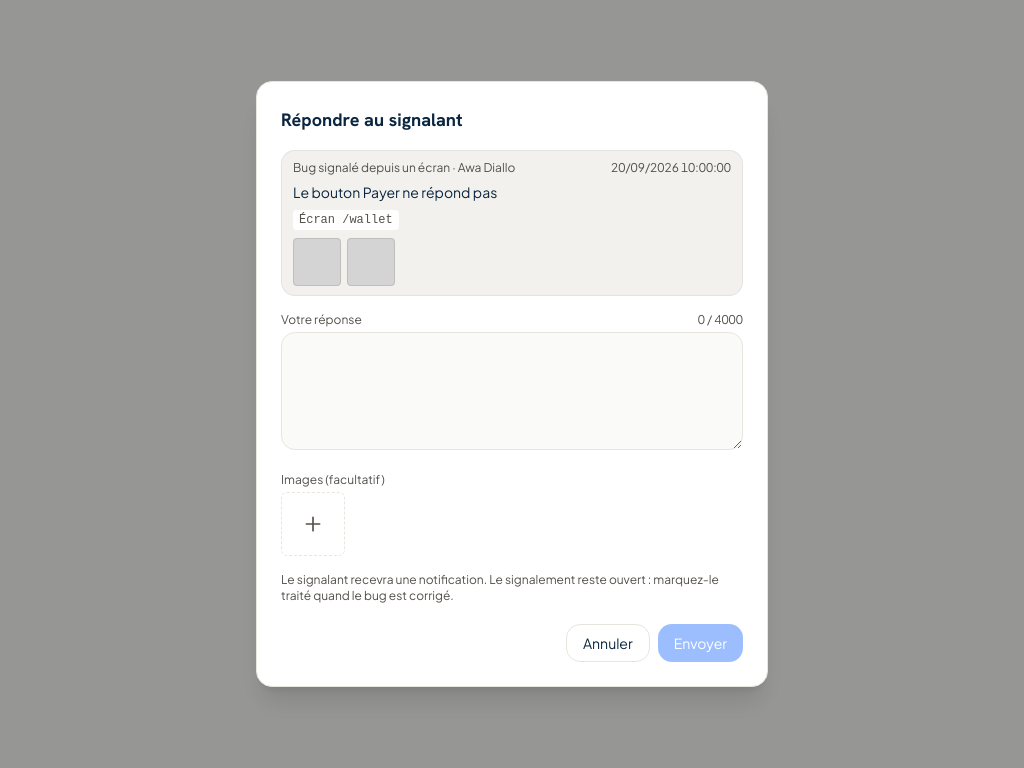
Test: ReportReplyDialog › ancien back : message d’indisponibilité et Envoyer désactivé
This screenshot has width=1024, height=768.
Type "Merci" into the text box with test id "reply-message" at (512, 391), box [281,332,743,450]
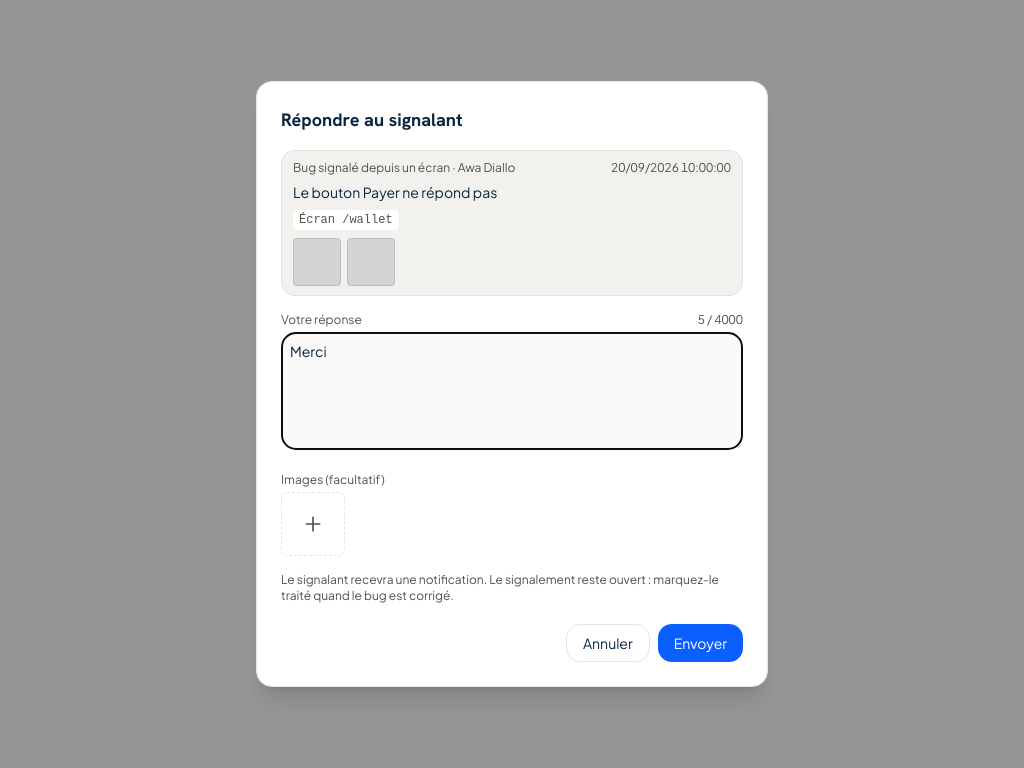
Click the button with test id "reply-submit" at (700, 643), box [658,624,743,662]
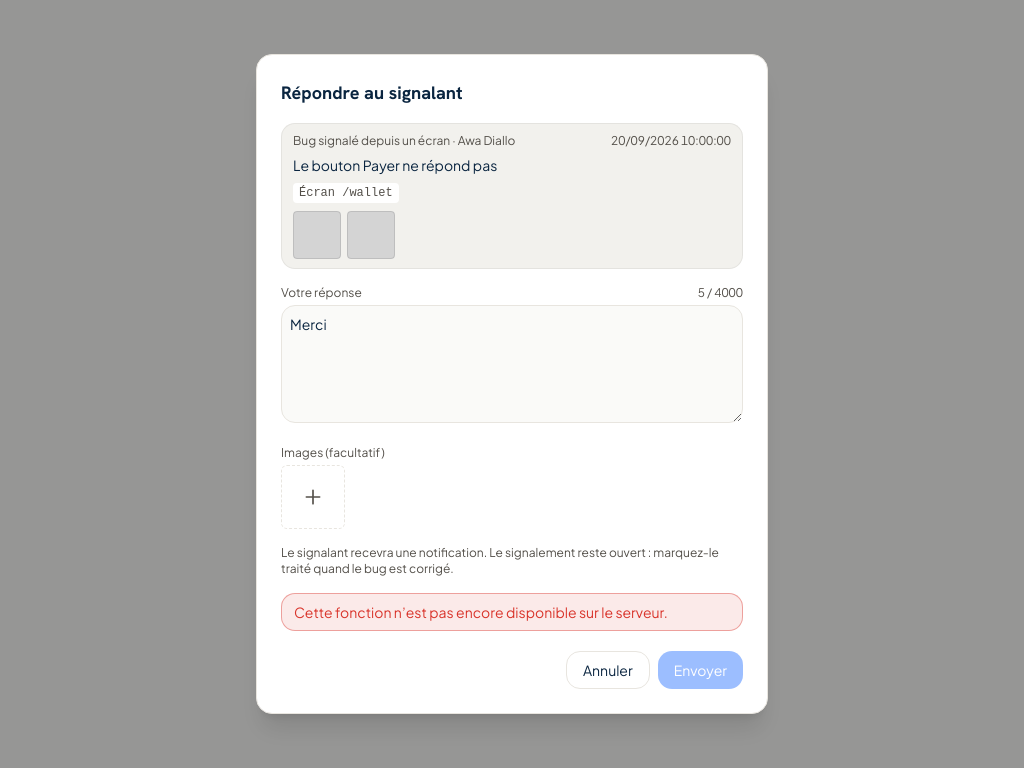
Result: the message with test id "reply-error" reads "Cette fonction n’est pas encore disponible sur le serveur." at [294,603,668,621]
Result: the button with test id "reply-submit" is disabled at [658,651,743,689]
